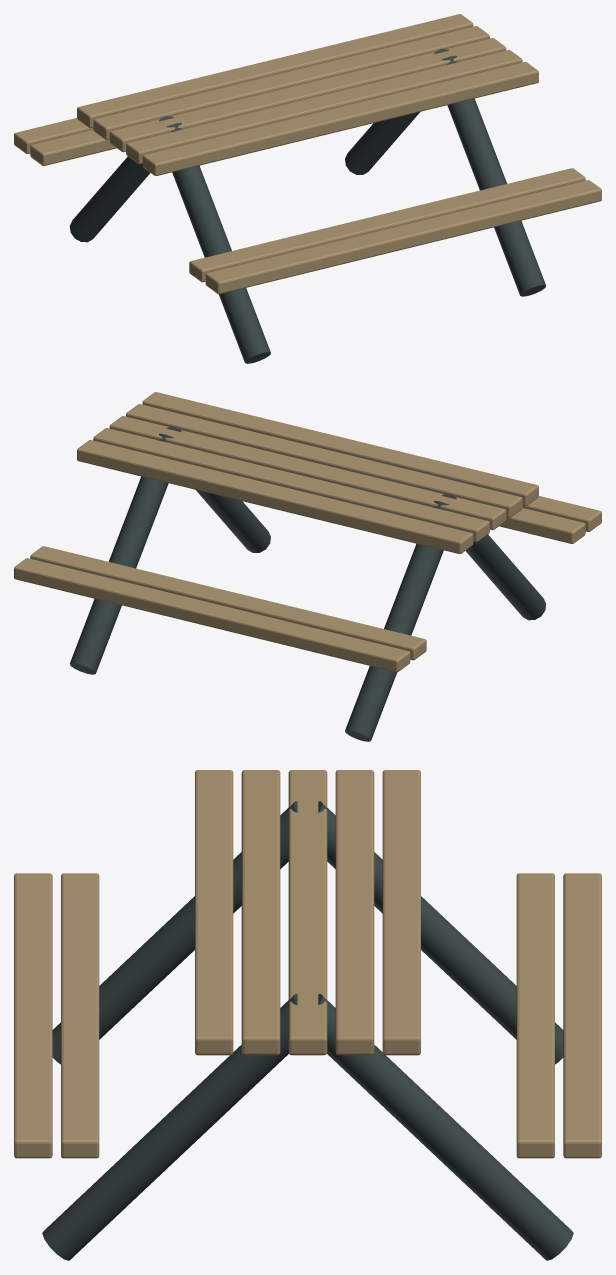
Rendered from valade-picnic-table.glb.
3 views of the same model, one above another, from view 1: azimuth 30°, elevation 25°; view 2: azimuth 150°, elevation 25°; view 3: azimuth 270°, elevation 25° (orthographic). The views are drawn at different scales.
Parts seen in each view (by area): view 1: Picnic table slat, Picnic A frame; view 2: Picnic table slat, Picnic A frame; view 3: Picnic table slat, Picnic A frame.
Part boxes in pixels (x1,y1,x2,y2): Picnic table slat: (14,14,601,294); Picnic A frame: (69,49,545,363); Picnic table slat: (14,392,601,672); Picnic A frame: (70,427,546,741); Picnic table slat: (14,770,601,1158); Picnic A frame: (42,801,573,1260).
Size of the model in its own units: 1.9 by 0.8632 by 1.75.
